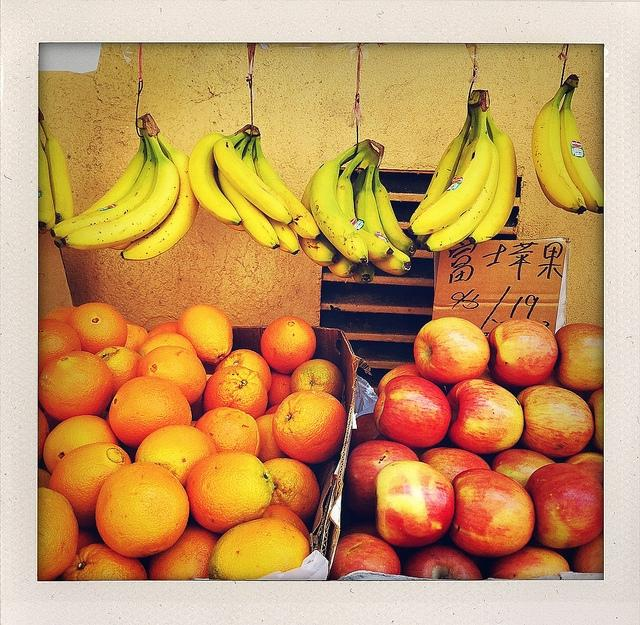apple: (446, 468, 534, 559), (374, 460, 454, 548), (524, 463, 604, 549), (343, 440, 419, 520), (446, 379, 524, 454), (516, 384, 594, 458), (374, 376, 452, 448), (413, 316, 490, 387), (486, 318, 558, 388), (554, 324, 604, 396), (328, 532, 401, 580), (401, 546, 484, 580), (492, 449, 559, 488), (490, 547, 570, 579), (419, 447, 492, 482), (514, 368, 586, 402), (378, 364, 448, 398), (446, 365, 512, 392), (573, 528, 604, 574), (565, 452, 603, 489), (348, 412, 381, 454), (586, 386, 604, 454), (339, 521, 386, 542)
banana: (60, 134, 180, 250), (407, 106, 493, 235), (54, 135, 148, 248), (52, 136, 154, 240), (120, 130, 199, 260), (424, 138, 500, 253), (532, 81, 588, 215), (213, 133, 293, 225), (309, 144, 368, 264), (217, 136, 280, 248), (242, 134, 300, 255), (297, 153, 358, 266), (468, 109, 518, 244), (336, 151, 394, 262), (188, 124, 251, 226), (414, 104, 472, 214), (354, 167, 410, 276), (560, 86, 604, 214), (372, 166, 414, 253), (40, 121, 74, 224), (38, 122, 56, 234), (454, 110, 476, 176), (328, 252, 358, 278), (352, 261, 374, 284)
orange: (95, 462, 190, 558), (47, 442, 132, 530), (186, 451, 274, 534), (208, 518, 310, 579), (109, 376, 192, 448), (272, 390, 348, 464), (38, 350, 113, 422), (136, 425, 218, 487), (43, 414, 119, 475), (148, 524, 224, 580), (136, 346, 206, 406), (38, 488, 78, 582), (264, 458, 320, 523), (202, 366, 268, 420), (176, 304, 233, 364), (194, 407, 261, 458), (66, 302, 128, 356), (59, 544, 147, 582), (261, 315, 316, 374), (95, 346, 144, 412), (214, 349, 272, 394), (38, 319, 82, 374), (290, 358, 344, 400), (260, 504, 310, 543), (256, 414, 290, 464), (136, 332, 198, 358), (267, 369, 293, 408), (125, 319, 148, 353), (37, 405, 49, 460), (43, 306, 77, 323), (77, 527, 98, 551), (148, 322, 178, 338), (43, 410, 62, 434), (38, 468, 52, 489), (264, 403, 282, 415)
